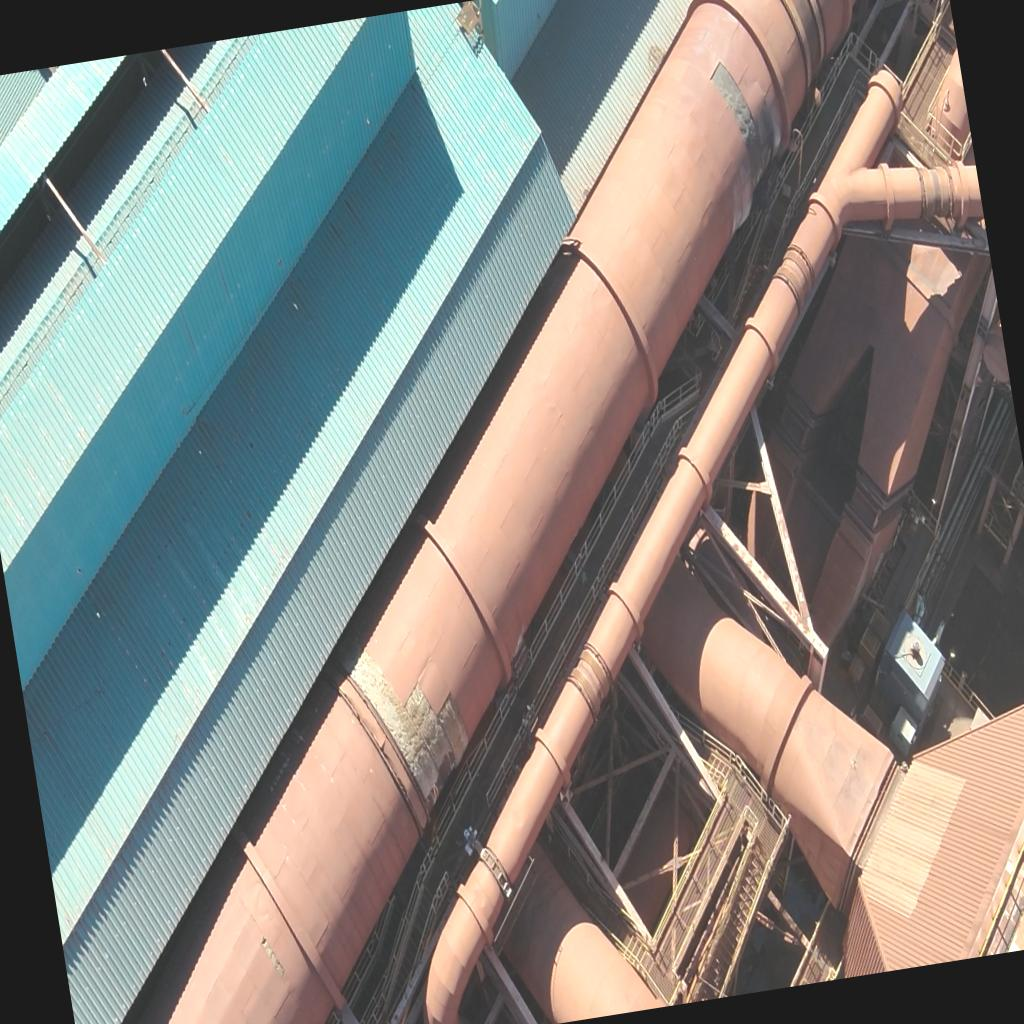Failures: (350, 648, 440, 807), (402, 680, 448, 785), (433, 686, 476, 770)
